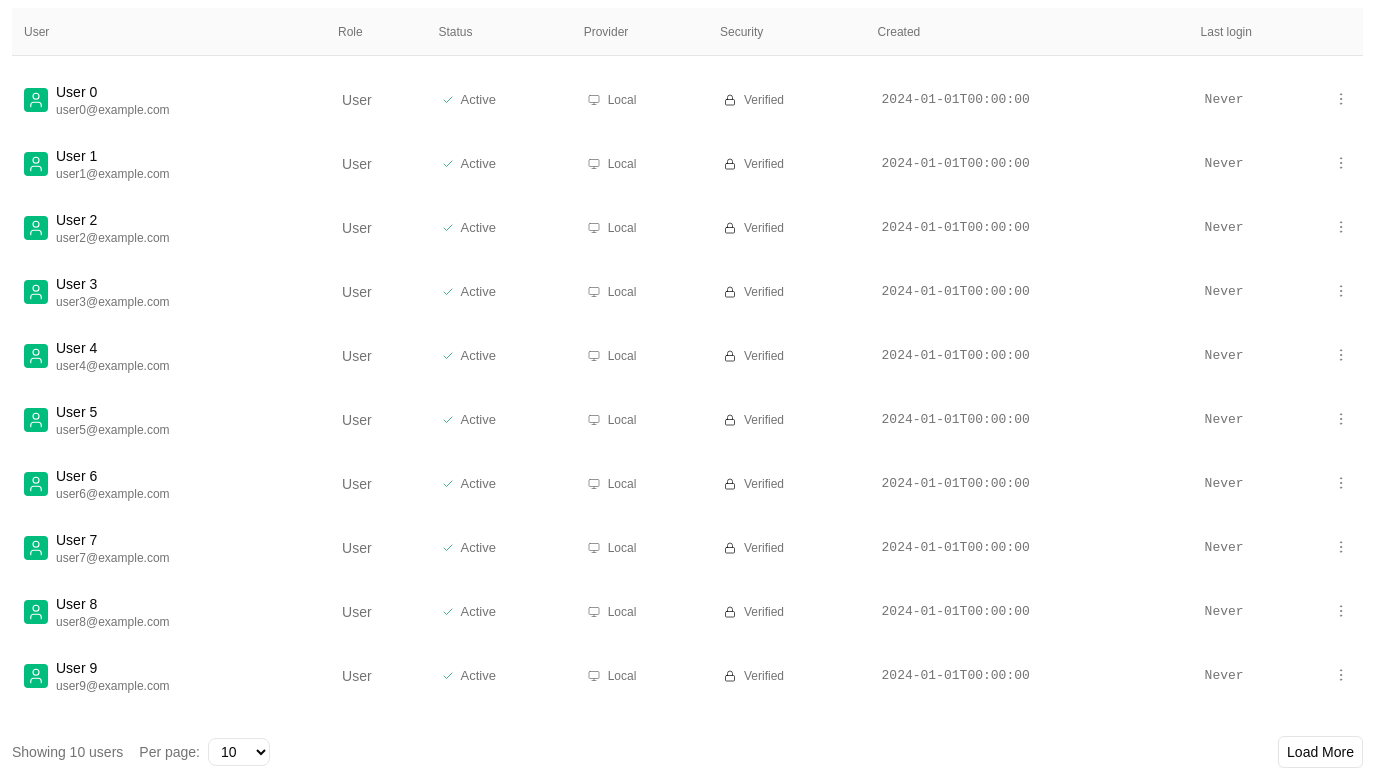
Test: Users › loads more users when Load More button is clicked
(page scrolled)
Expected: the text "user0@example.com" is shown, [56, 102, 170, 118]
Step 1. Click the button with aria-label "load more users" → (1321, 752), box [1278, 736, 1363, 767]
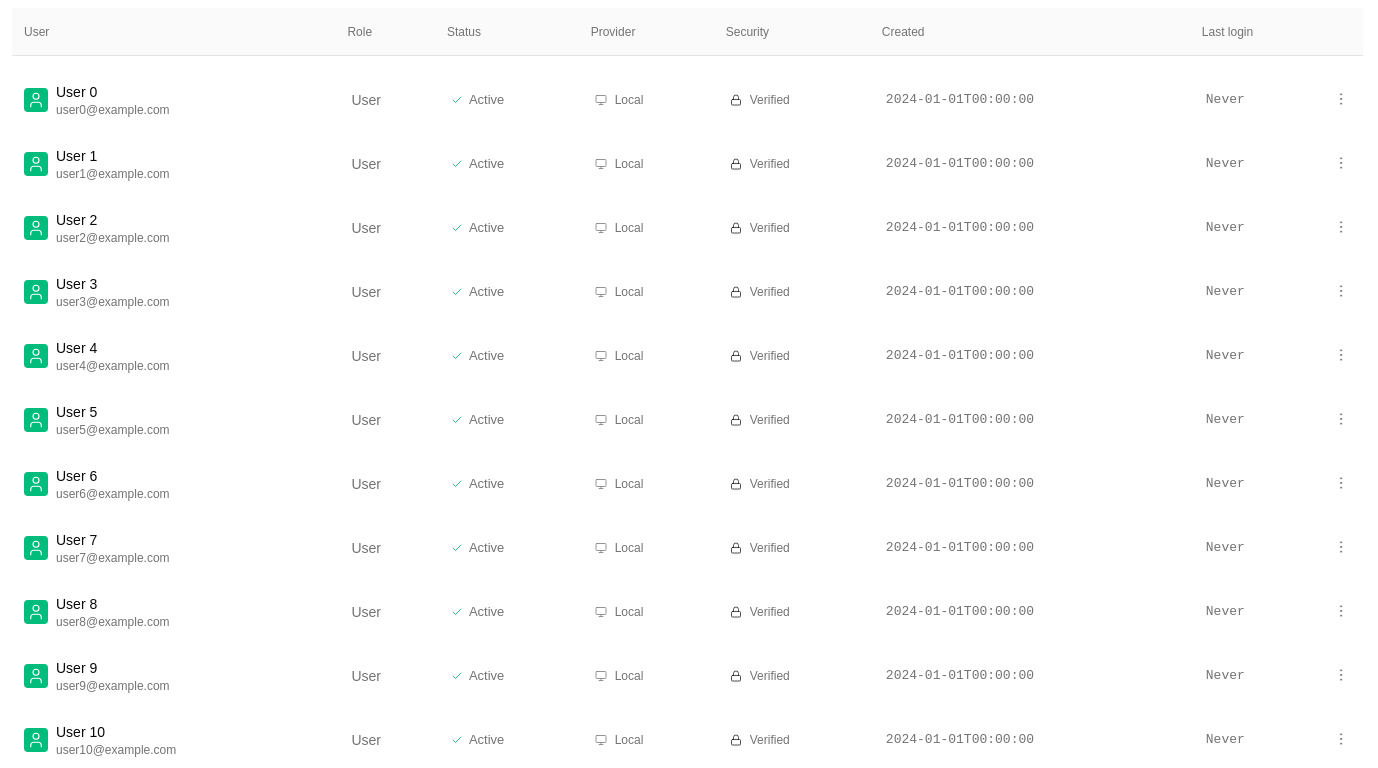
Now the text "user10@example.com" is shown, box [56, 742, 176, 758]
